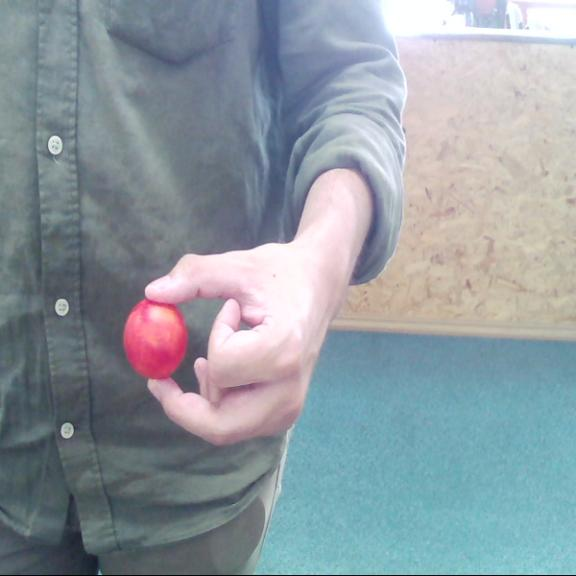ball: (123, 296, 189, 376)
